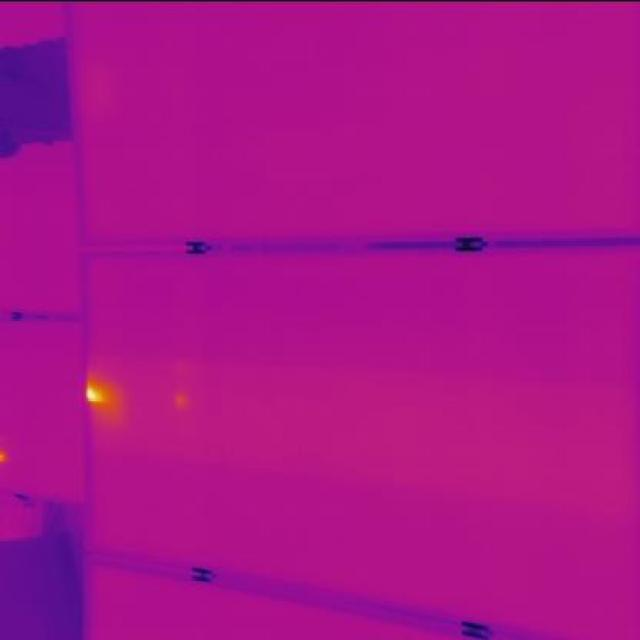hotspot: (79, 378, 116, 410)
